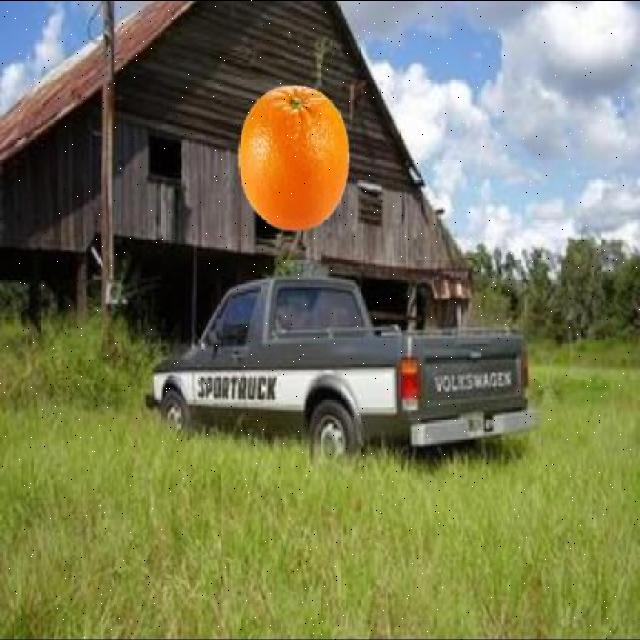Orange: (236, 84, 350, 232)
